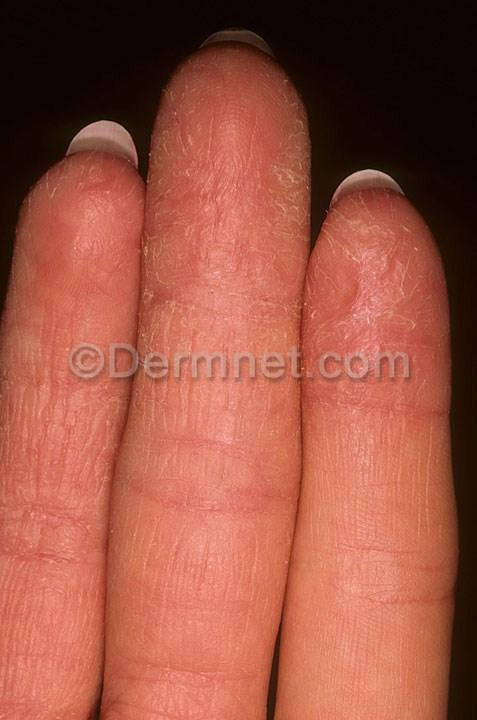Eczema: (165, 72, 307, 295), (1, 172, 149, 370), (426, 326, 468, 378)
